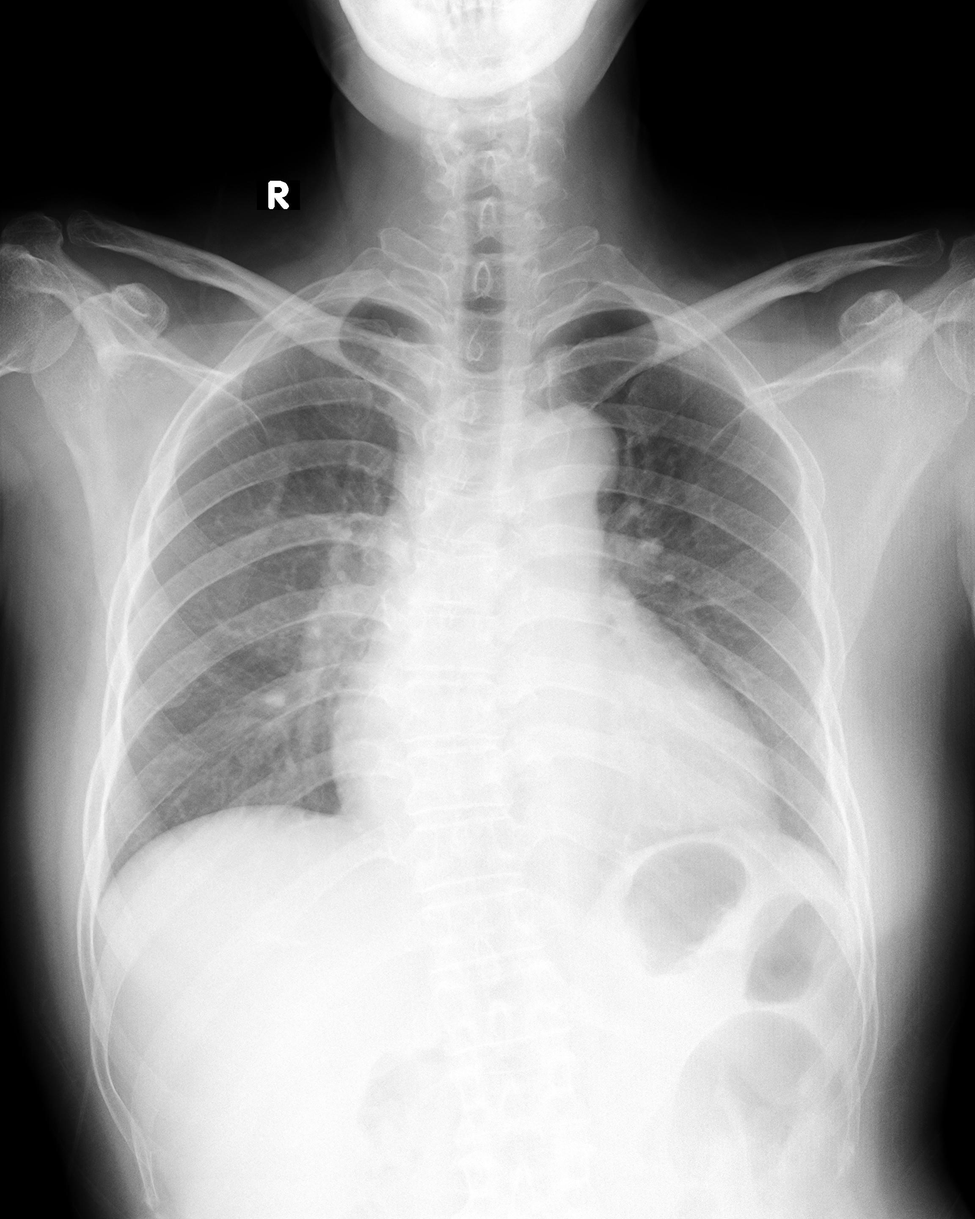Aortic enlargement: (509, 405, 621, 508)
Cardiomegaly: (324, 715, 782, 830)
